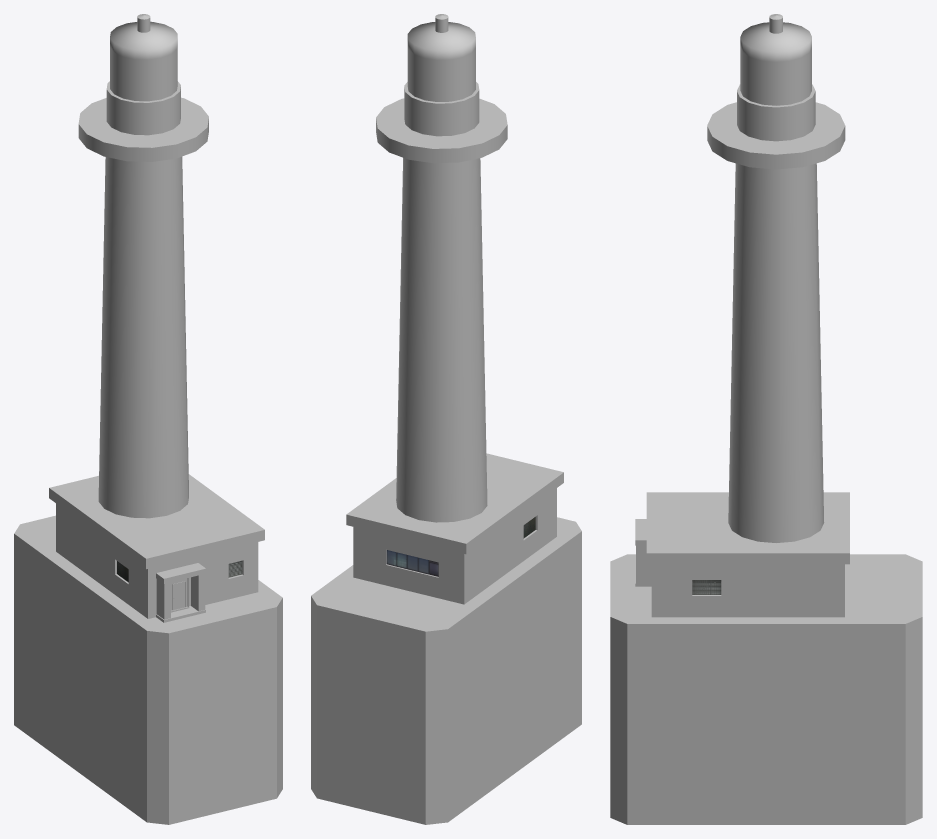
File: lighthouse_01.fbx
3 renders of one model, left to right at view 1: azimuth 30°, elevation 25°; view 2: azimuth 150°, elevation 25°; view 3: azimuth 270°, elevation 25°, orthographic. The views are drawn at different scales.
Parts seen in each view (by area): view 1: lighthouse_01; view 2: lighthouse_01; view 3: lighthouse_01.
Part boxes in pixels (box(x1,y1,x2,y2)): lighthouse_01: box(14, 14, 282, 824); lighthouse_01: box(311, 14, 581, 824); lighthouse_01: box(610, 14, 922, 824).
Size of the model in its own units: 11 by 57.13 by 20.88.
